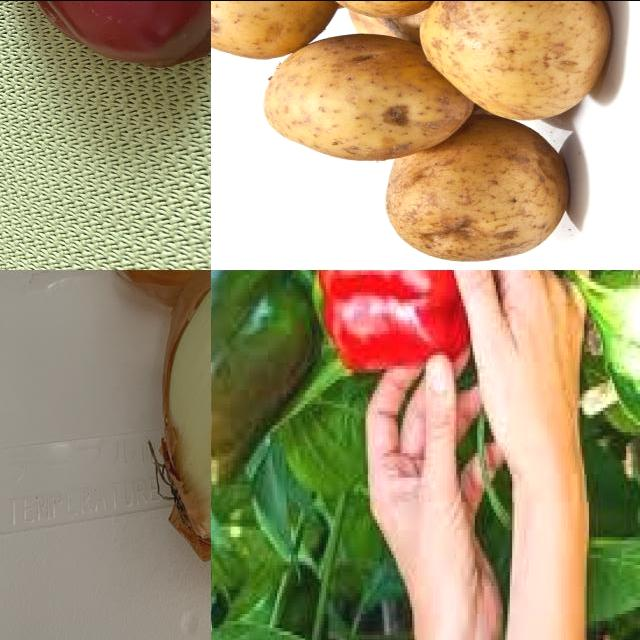bell_pepper: (212, 270, 318, 515), (308, 270, 484, 375)
onion: (148, 270, 212, 575)
potato: (386, 114, 572, 263), (264, 37, 468, 163), (423, 1, 616, 124), (212, 1, 331, 58)
